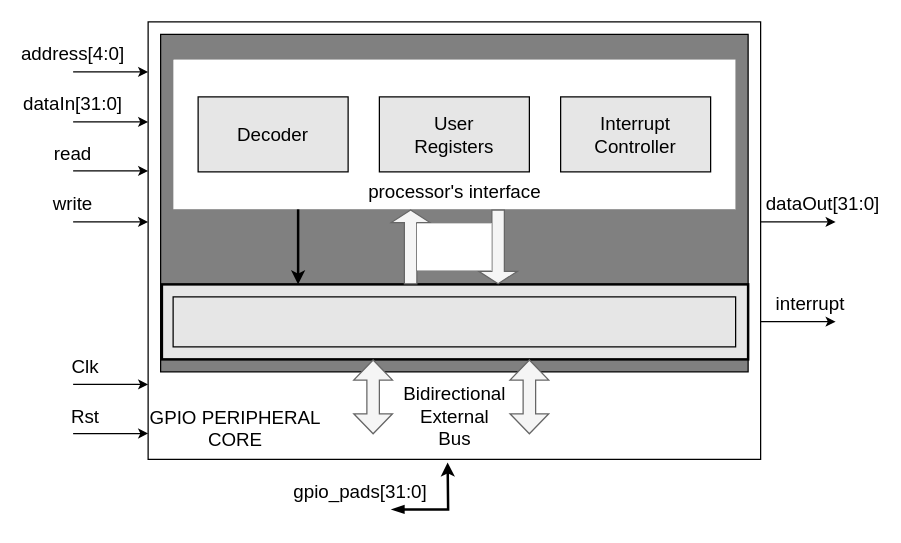
Image size: 901x543. Some labels were removed from this diagram. The shapes that lost their labels are listed below. From the top down, each one's box as (x1, y1, x2, y2) in pixels, then its label:
(416, 222, 491, 270): I/O digitals
(172, 296, 736, 347): PADS INTERFACE
